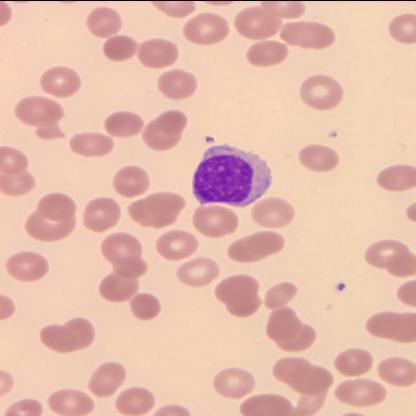Promyelocyte: (193, 144, 276, 206)
